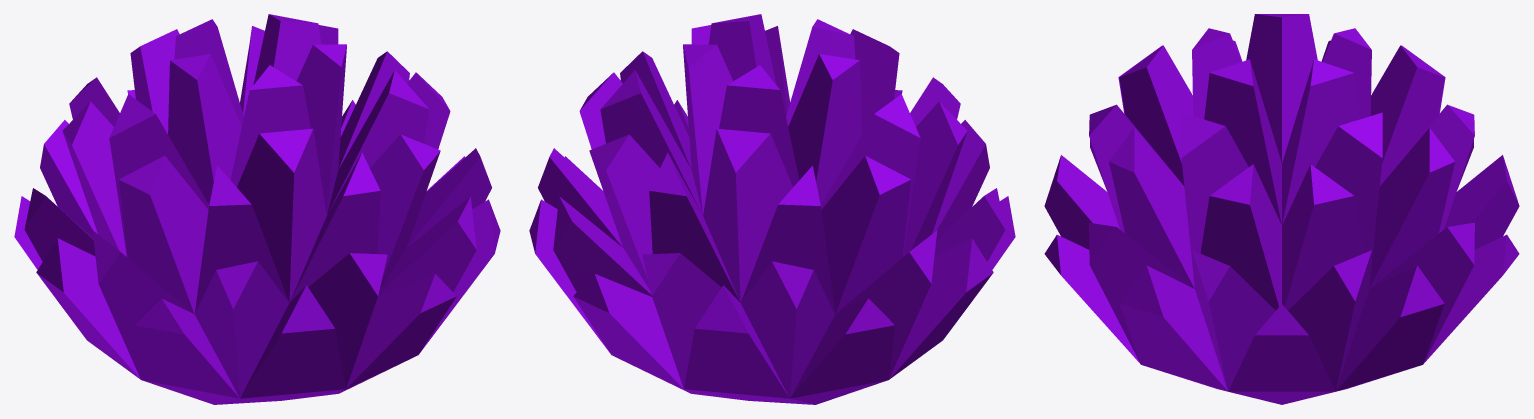
The model's file is Crystal.glb.
3 views of the same model, side by side, from view 1: azimuth 30°, elevation 25°; view 2: azimuth 150°, elevation 25°; view 3: azimuth 270°, elevation 25° (orthographic).
Visible parts, largest first — view 1: Icosphere; view 2: Icosphere; view 3: Icosphere.
Part boxes in pixels (left/top/right/bottom): Icosphere: left=14, top=14, right=500, bottom=404; Icosphere: left=529, top=14, right=1015, bottom=404; Icosphere: left=1044, top=14, right=1519, bottom=404.
Bounding box in the file's own units: 1.07 × 0.7815 × 1.06.
